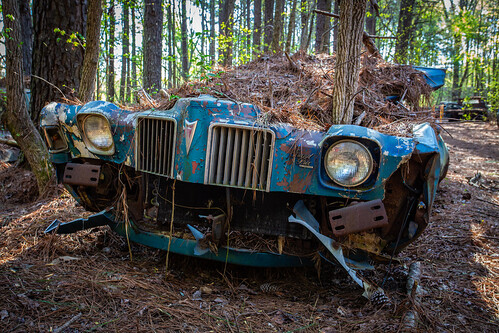car: (62, 45, 463, 280)
vegetation: (1, 1, 496, 77)
